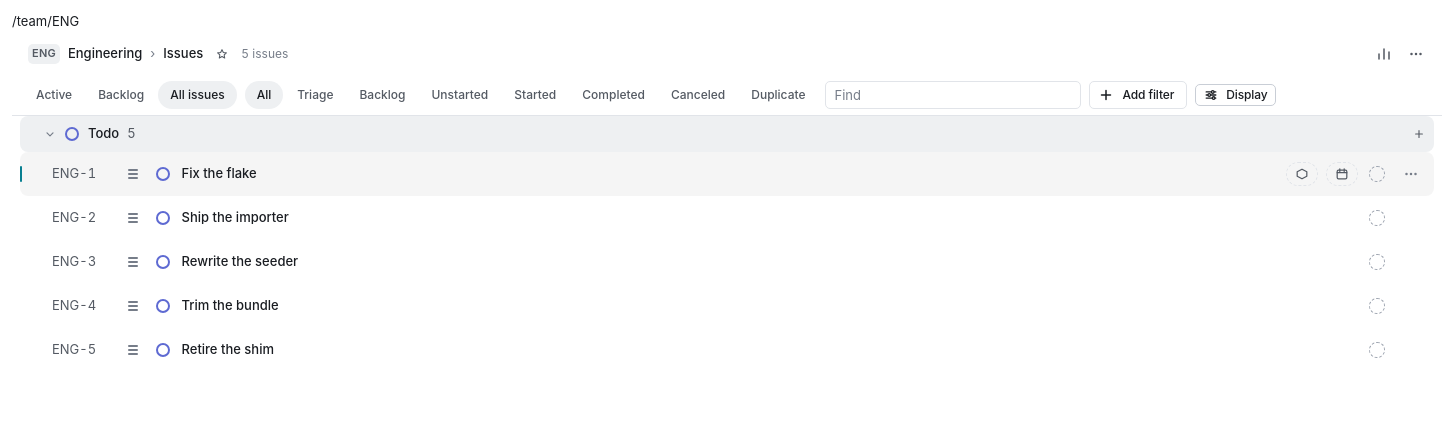
it: a property glyph in a row › opens the priority picker from the glyph next to status instead of opening the issue
Click the button named "No priority" next to "ENG-2" at (132, 218), box 122,206 -> 144,228
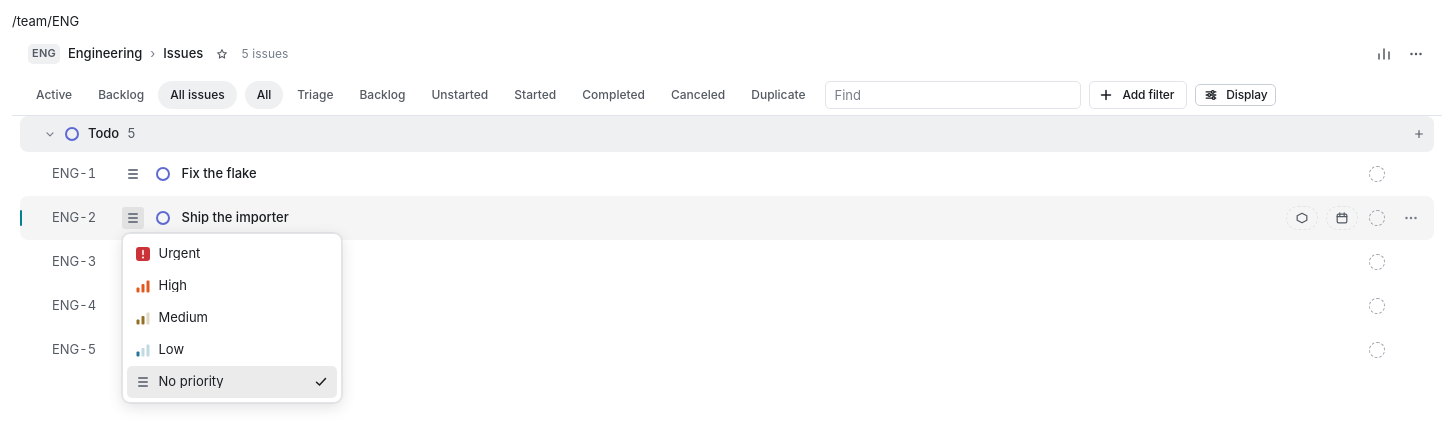
Expected: the text with test id "location" reads "/team/ENG", 12,13 -> 79,29
Expected: the menu "priority" is shown, 126,238 -> 336,398
